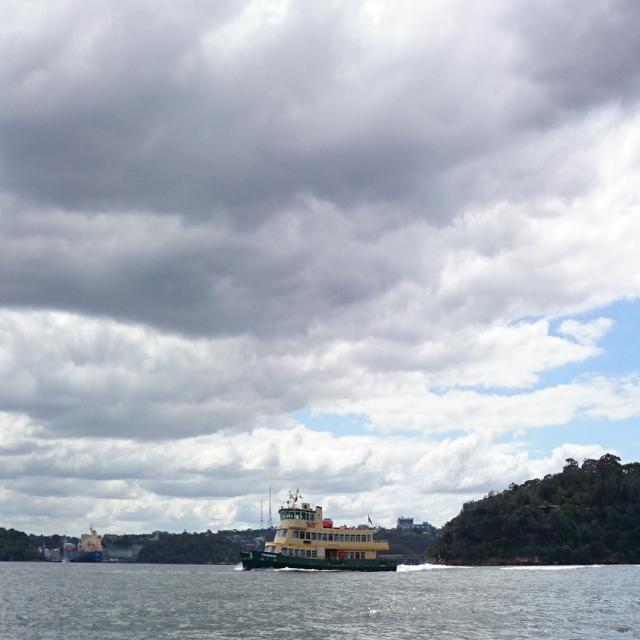Boat: (241, 494, 400, 577), (63, 548, 107, 564)
